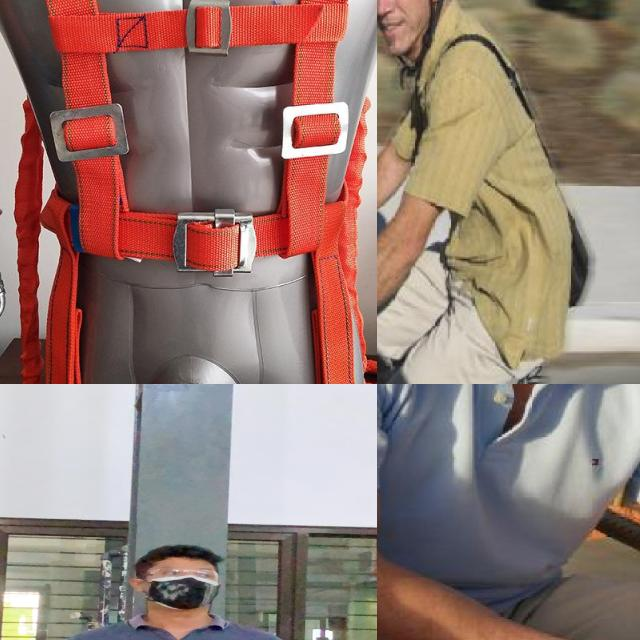Harness: (39, 0, 376, 384)
face_mask: (138, 562, 225, 609)
face_nomask: (377, 0, 422, 46)
glasses: (134, 566, 221, 583)
head_nohelmet: (138, 542, 228, 570)
person: (377, 0, 593, 384), (377, 384, 640, 640), (40, 538, 341, 640)
